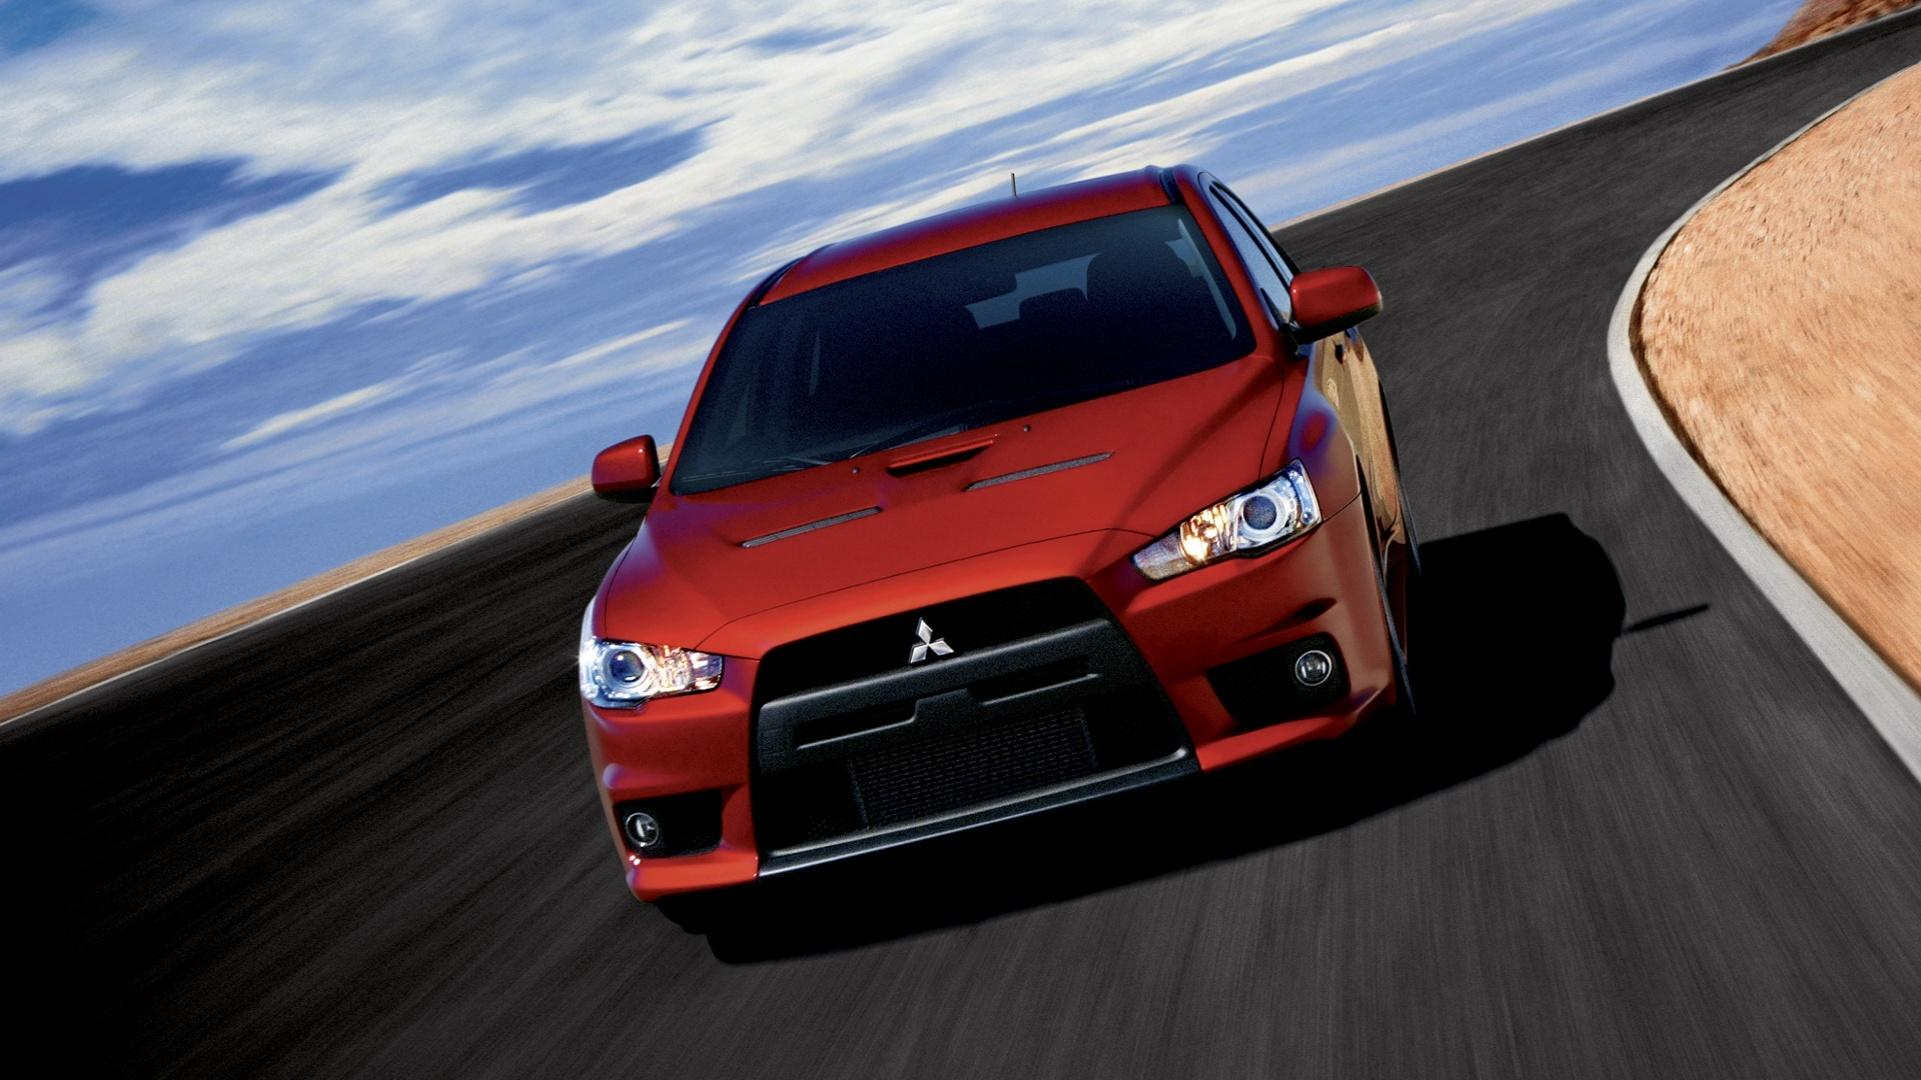Mitsubishi: (896, 612, 966, 673)
